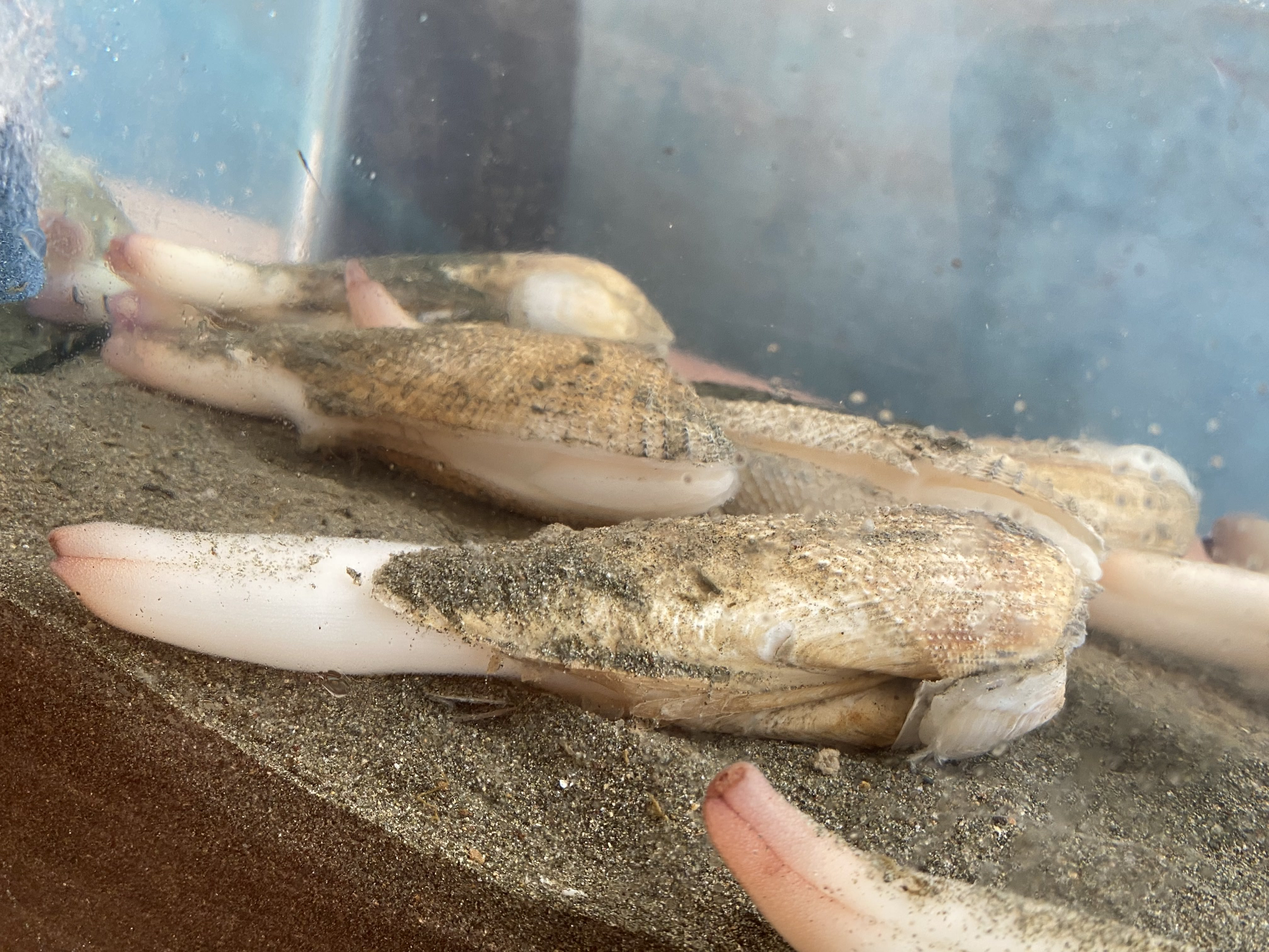Healthy: (50, 505, 1088, 757), (103, 323, 735, 525), (703, 762, 1189, 952), (365, 253, 673, 348), (1090, 550, 1269, 674), (107, 234, 348, 322)
